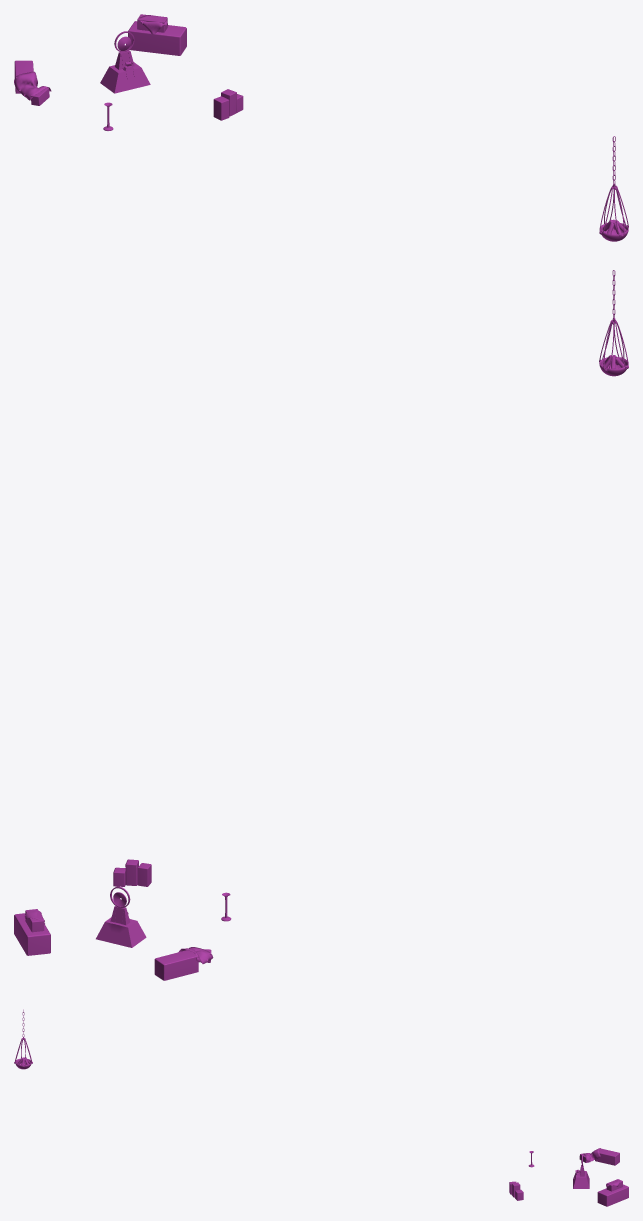
File: Central_Detail_Low.fbx
3 views of the same model, one above another, from view 1: azimuth 30°, elevation 25°; view 2: azimuth 150°, elevation 25°; view 3: azimuth 270°, elevation 25° (orthographic). The views are drawn at different scales.
Visible parts, largest first — view 1: Alnar_Low, Stone_Big_Right_Low, lamp_1_Low, cover_Low, Stone_1_Low; view 2: Alnar_Low, lamp_1_Low, Stone_Big_Left_Low, Stone_Big_Right_Low; view 3: Stone_Big_Right_Low, lamp_1_Low, Alnar_Low, Stone_Big_Left_Low.
Boxes of the visible parts, x1,y1,x2,y2 form: Alnar_Low: [100, 31, 150, 93]; Stone_Big_Right_Low: [128, 21, 186, 55]; lamp_1_Low: [599, 136, 628, 241]; cover_Low: [14, 71, 51, 100]; Stone_1_Low: [213, 96, 229, 120]; Alnar_Low: [96, 886, 146, 947]; lamp_1_Low: [599, 270, 628, 376]; Stone_Big_Left_Low: [154, 950, 198, 980]; Stone_Big_Right_Low: [14, 913, 50, 955]; Stone_Big_Right_Low: [597, 1184, 628, 1206]; lamp_1_Low: [14, 1009, 32, 1069]; Alnar_Low: [573, 1154, 589, 1188]; Stone_Big_Left_Low: [595, 1148, 619, 1165].
Size of the model in its own units: 863 by 1413 by 4510.
